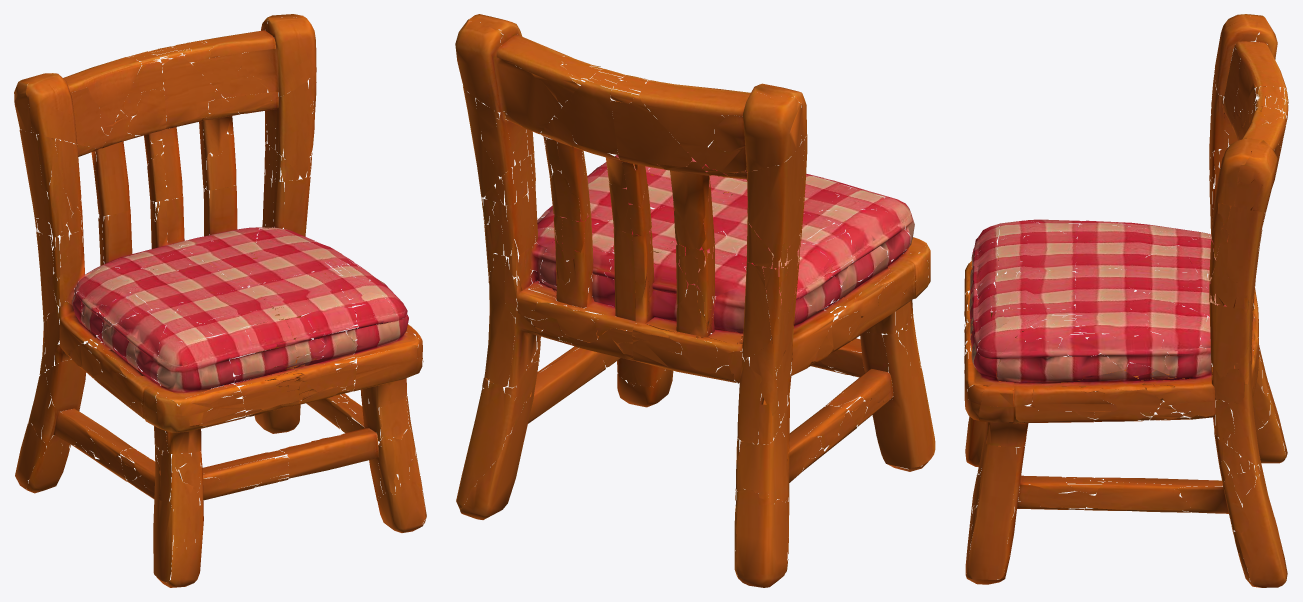
Rendered from silla.glb.
The picture shows the model from 3 angles, left to right: view 1: azimuth 30°, elevation 25°; view 2: azimuth 150°, elevation 25°; view 3: azimuth 270°, elevation 25°; orthographic projection. The views are drawn at different scales.
Visible parts, largest first — view 1: tripo_node_b87ba87a-37ee-4c08-9589-f5ac349d9332; view 2: tripo_node_b87ba87a-37ee-4c08-9589-f5ac349d9332; view 3: tripo_node_b87ba87a-37ee-4c08-9589-f5ac349d9332.
Boxes of the visible parts, x1,y1,x2,y2 form: tripo_node_b87ba87a-37ee-4c08-9589-f5ac349d9332: (14, 14, 426, 587); tripo_node_b87ba87a-37ee-4c08-9589-f5ac349d9332: (455, 14, 935, 587); tripo_node_b87ba87a-37ee-4c08-9589-f5ac349d9332: (964, 14, 1288, 587).
Size of the model in its own units: 0.7079 by 0.9808 by 0.6567.
Materials: 1 (1 with a texture image).
